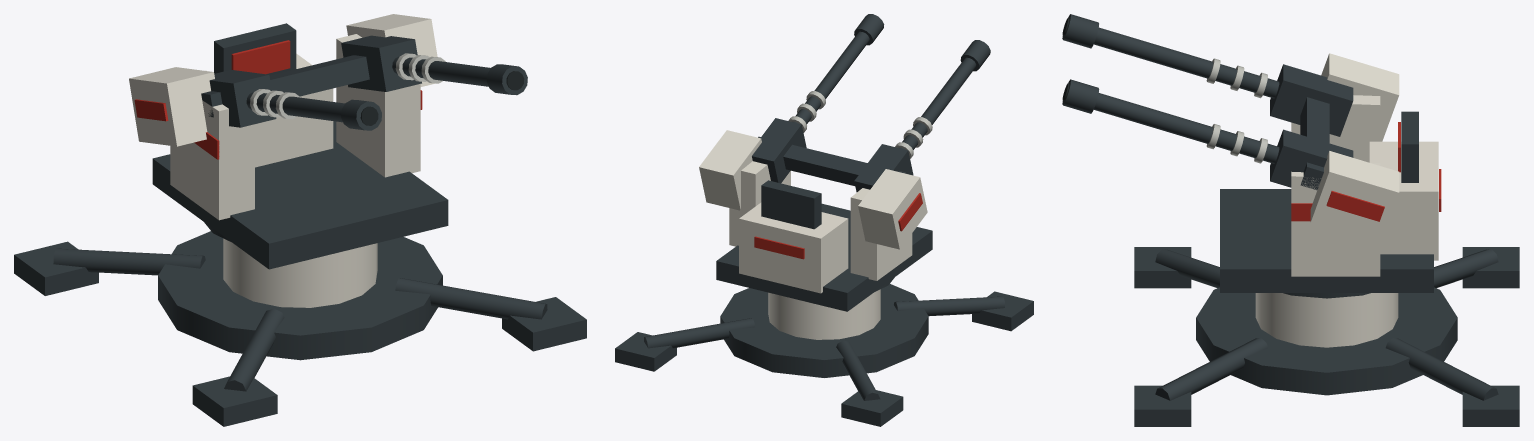
The picture shows the model from 3 angles, left to right: view 1: azimuth 30°, elevation 25°; view 2: azimuth 150°, elevation 25°; view 3: azimuth 270°, elevation 25°; orthographic projection. The views are drawn at different scales.
Visible parts, largest first — view 1: aa-gun-auto-fleet-machine, turret-fleet-machine, turret-fleet-armor, aa-gun-auto-fleet-armor, elevation-fleet-armor, aa-barrel-right-fleet-machine, aa-barrel-left-fleet-machine, elevation-fleet-machine, radar-fleet-machine, radar-fleet-red, aa-barrel-right-fleet-edge, aa-barrel-left-fleet-edge (+1 smaller); view 2: aa-gun-auto-fleet-machine, turret-fleet-armor, elevation-fleet-armor, turret-fleet-machine, aa-gun-auto-fleet-armor, aa-barrel-right-fleet-machine, aa-barrel-left-fleet-machine, radar-fleet-machine, elevation-fleet-machine, turret-fleet-red, aa-barrel-left-fleet-edge, aa-barrel-right-fleet-edge; view 3: aa-gun-auto-fleet-machine, turret-fleet-armor, turret-fleet-machine, elevation-fleet-armor, aa-barrel-left-fleet-machine, aa-gun-auto-fleet-armor, aa-barrel-right-fleet-machine, elevation-fleet-machine, radar-fleet-machine, elevation-fleet-red, aa-barrel-left-fleet-edge, aa-barrel-right-fleet-edge (+1 smaller).
Boxes of the visible parts, x1=… form: aa-gun-auto-fleet-machine: x1=14, y1=222, x2=586, y2=426; turret-fleet-machine: x1=152, y1=121, x2=448, y2=269; turret-fleet-armor: x1=170, y1=34, x2=420, y2=220; aa-gun-auto-fleet-armor: x1=223, y1=238, x2=377, y2=307; elevation-fleet-armor: x1=129, y1=14, x2=437, y2=146; aa-barrel-right-fleet-machine: x1=341, y1=35, x2=527, y2=95; aa-barrel-left-fleet-machine: x1=209, y1=69, x2=381, y2=130; elevation-fleet-machine: x1=201, y1=55, x2=369, y2=117; radar-fleet-machine: x1=214, y1=23, x2=296, y2=75; radar-fleet-red: x1=231, y1=40, x2=290, y2=74; aa-barrel-right-fleet-edge: x1=395, y1=53, x2=445, y2=83; aa-barrel-left-fleet-edge: x1=250, y1=89, x2=300, y2=119; aa-gun-auto-fleet-machine: x1=615, y1=277, x2=1033, y2=426; turret-fleet-armor: x1=729, y1=161, x2=912, y2=293; elevation-fleet-armor: x1=699, y1=130, x2=927, y2=249; turret-fleet-machine: x1=716, y1=203, x2=932, y2=311; aa-gun-auto-fleet-armor: x1=768, y1=289, x2=880, y2=339; aa-barrel-right-fleet-machine: x1=752, y1=14, x2=884, y2=183; aa-barrel-left-fleet-machine: x1=854, y1=40, x2=990, y2=192; radar-fleet-machine: x1=761, y1=180, x2=821, y2=229; elevation-fleet-machine: x1=758, y1=136, x2=906, y2=185; turret-fleet-red: x1=754, y1=236, x2=804, y2=259; aa-barrel-left-fleet-edge: x1=895, y1=117, x2=932, y2=158; aa-barrel-right-fleet-edge: x1=788, y1=91, x2=825, y2=132; aa-gun-auto-fleet-machine: x1=1134, y1=247, x2=1519, y2=426; turret-fleet-armor: x1=1291, y1=95, x2=1438, y2=276; turret-fleet-machine: x1=1220, y1=189, x2=1433, y2=292; elevation-fleet-armor: x1=1310, y1=53, x2=1399, y2=243; aa-barrel-left-fleet-machine: x1=1062, y1=14, x2=1353, y2=136; aa-gun-auto-fleet-armor: x1=1255, y1=293, x2=1398, y2=347; aa-barrel-right-fleet-machine: x1=1062, y1=79, x2=1353, y2=187; elevation-fleet-machine: x1=1300, y1=97, x2=1329, y2=190; radar-fleet-machine: x1=1401, y1=111, x2=1418, y2=182; elevation-fleet-red: x1=1326, y1=191, x2=1384, y2=221; aa-barrel-left-fleet-edge: x1=1206, y1=58, x2=1267, y2=98; aa-barrel-right-fleet-edge: x1=1206, y1=124, x2=1267, y2=163.
Size of the model in its own units: 16.86 by 14.36 by 20.
